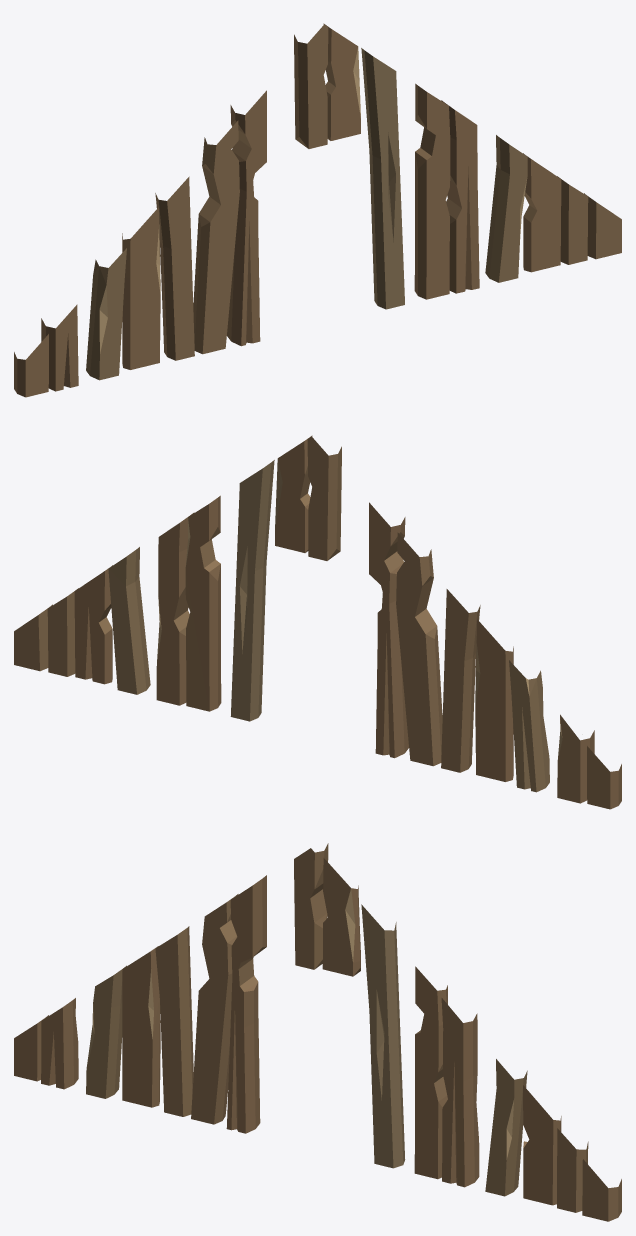
The model's file is rpgpp_av_roof_end_01_9x4_wall_door_02a.gltf.
3 views of the same model, one above another, from view 1: azimuth 30°, elevation 25°; view 2: azimuth 150°, elevation 25°; view 3: azimuth 330°, elevation 25° (orthographic).
Parts seen in each view (by area): view 1: rpgpp_av_roof_end_01_9x4_wall_door_02a; view 2: rpgpp_av_roof_end_01_9x4_wall_door_02a; view 3: rpgpp_av_roof_end_01_9x4_wall_door_02a.
Part boxes in pixels (x1,y1,x2,y2): rpgpp_av_roof_end_01_9x4_wall_door_02a: (14,23,621,397); rpgpp_av_roof_end_01_9x4_wall_door_02a: (14,435,621,809); rpgpp_av_roof_end_01_9x4_wall_door_02a: (14,843,621,1221).
Bounding box in the file's own units: 0.09 × 0.0431 × 0.00379.
Materials: 1 (1 with a texture image).
